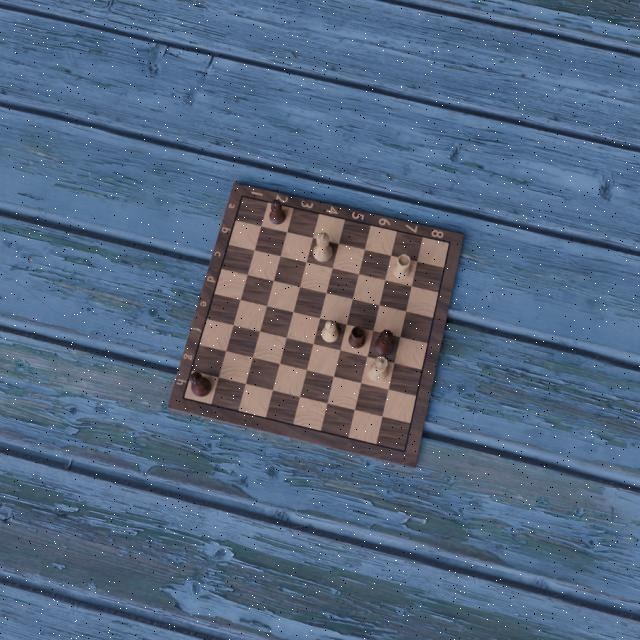black-bishop: (268, 198, 288, 226)
black-king: (188, 370, 213, 398)
black-queen: (373, 328, 395, 356)
black-rook: (348, 325, 368, 350)
white-bishop: (320, 320, 340, 344)
white-king: (311, 232, 335, 264)
white-queen: (366, 356, 392, 384)
white-rook: (392, 254, 412, 280)
